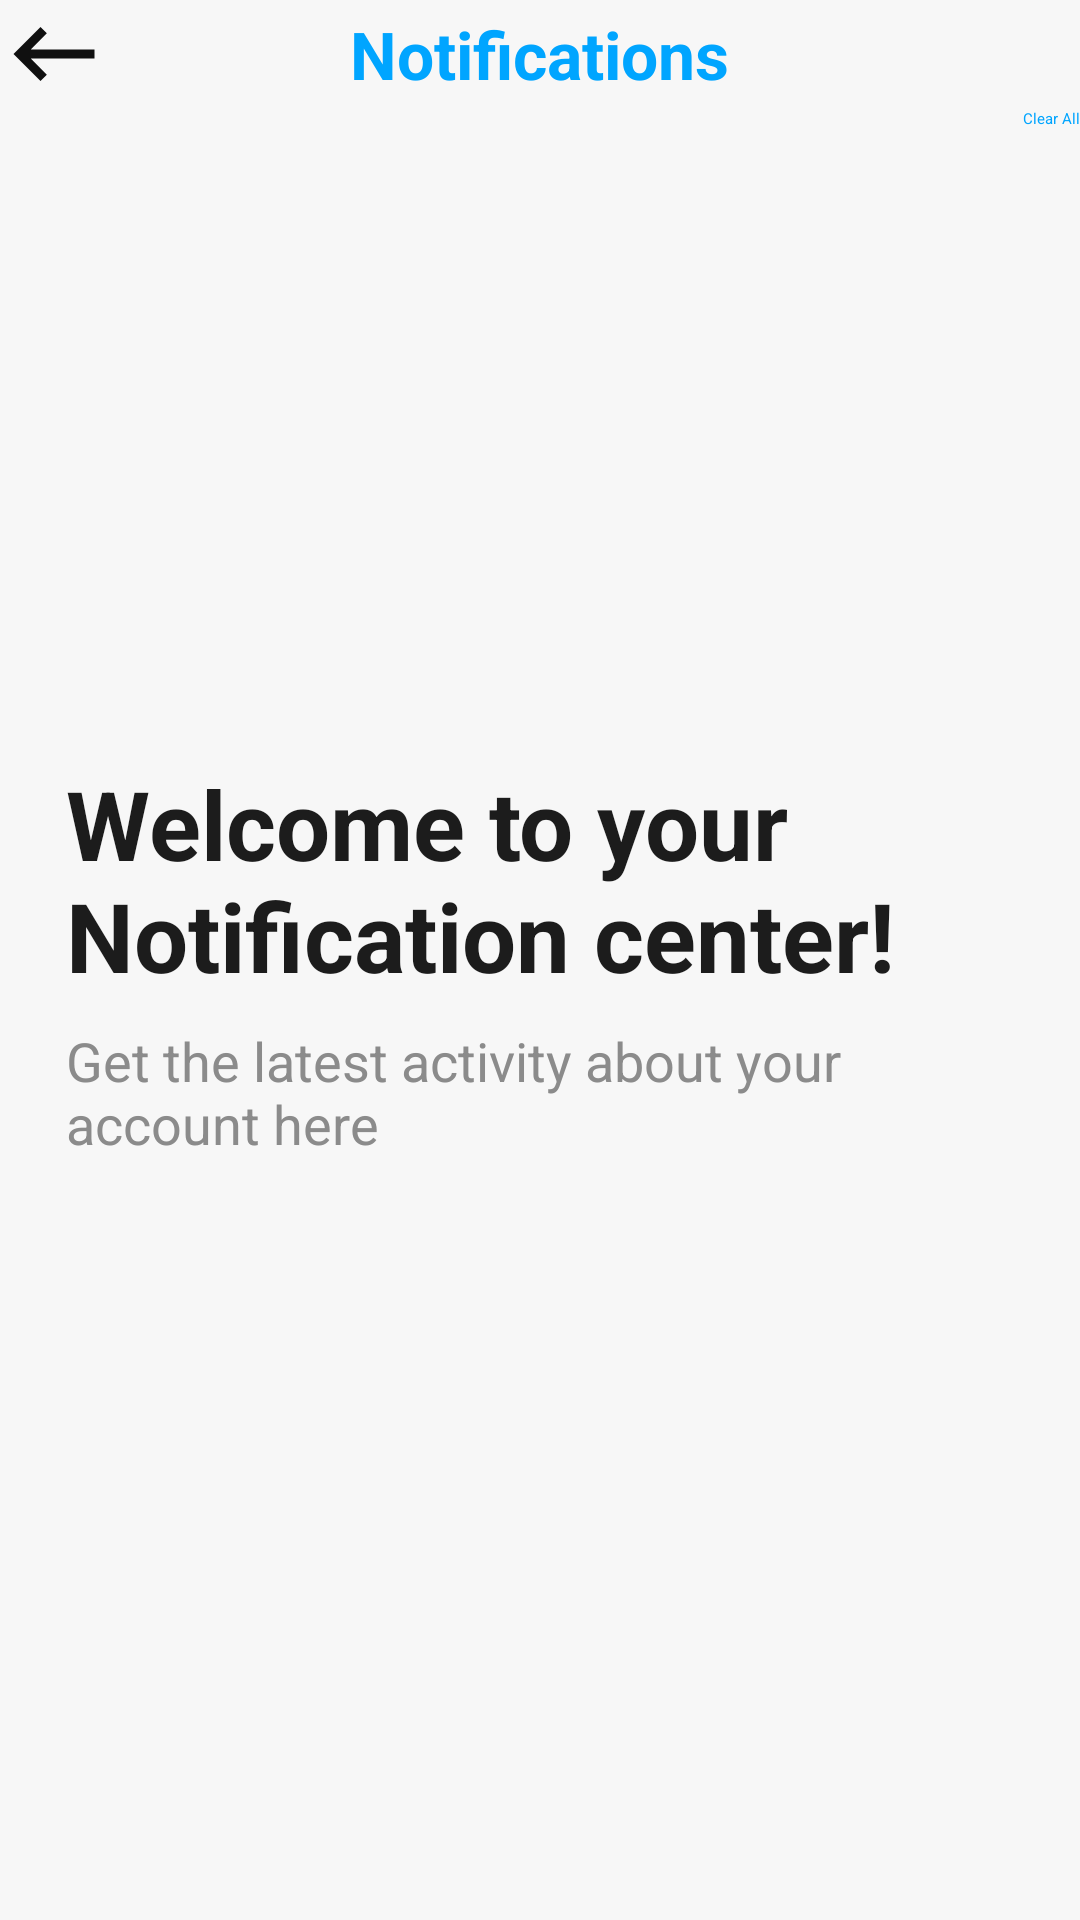

Named icons in this screenshot (1080px×1920px) and their bounding boxes, (x1, y1, x2, y2):
back: (13, 27, 95, 81)
